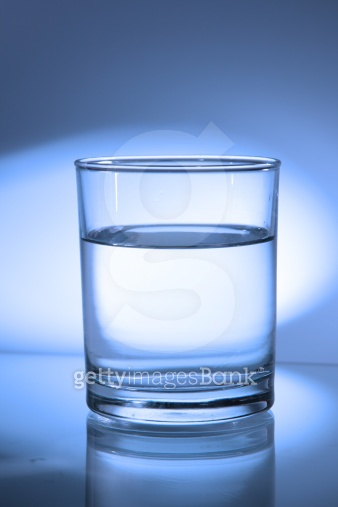glass of water: (73, 155, 281, 422)
